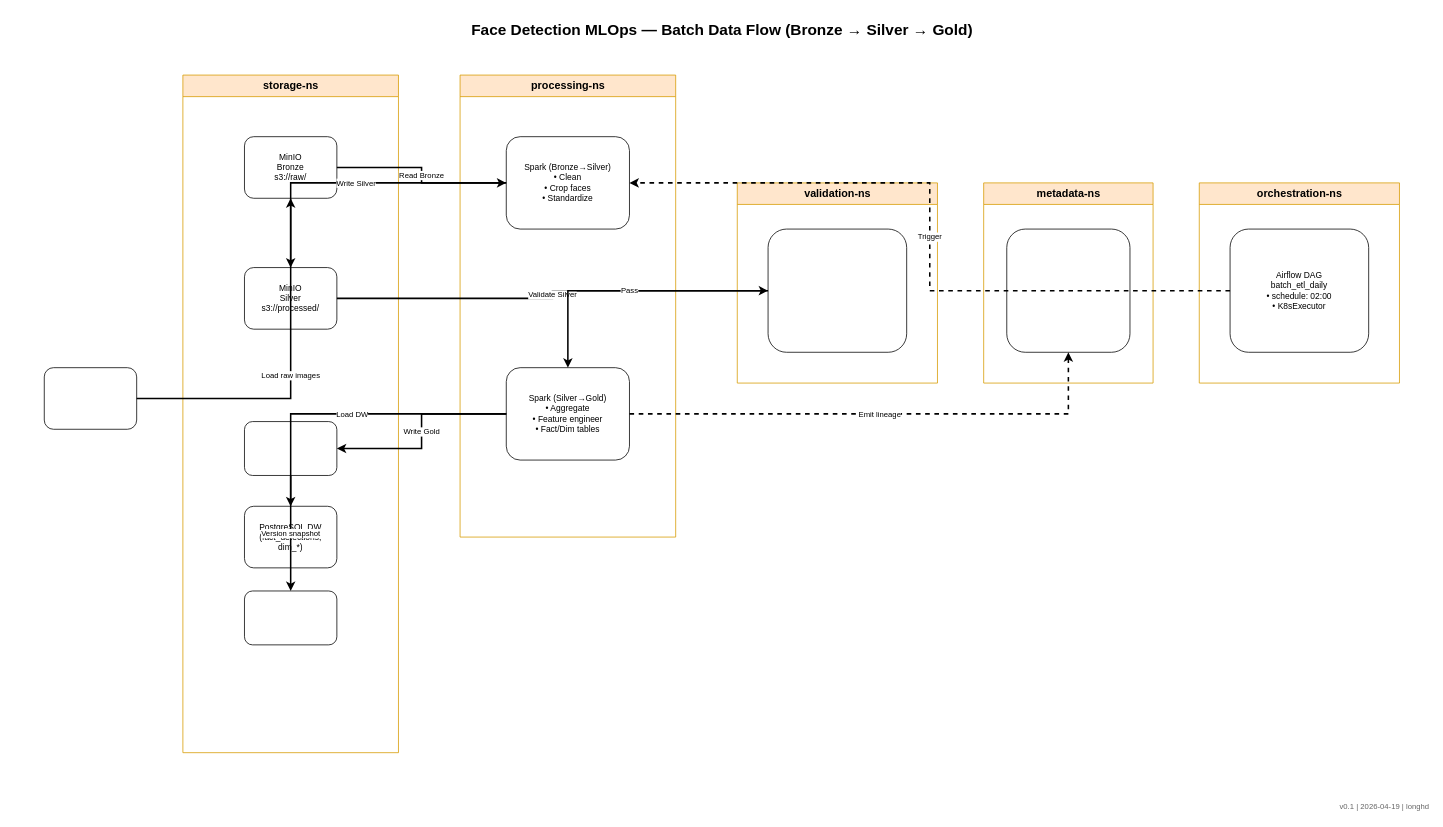
Some shapes in this 1443 by 827 pixel diagram are drawn without their labels. The shapes that lost their labels are listed below. From the top down, each one's centre as x and y in pixels, then its label:
point 837,290: Great Expectations • schema check • null check • range validation
point 1068,290: DataHub (lineage + catalog)
point 90,398: WIDER FACE Dataset (32k images)
point 290,448: MinIO Gold s3://gold/
point 290,617: DVC (dataset version)
